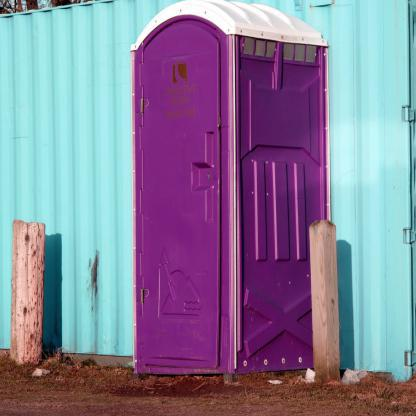door: (144, 51, 218, 366)
